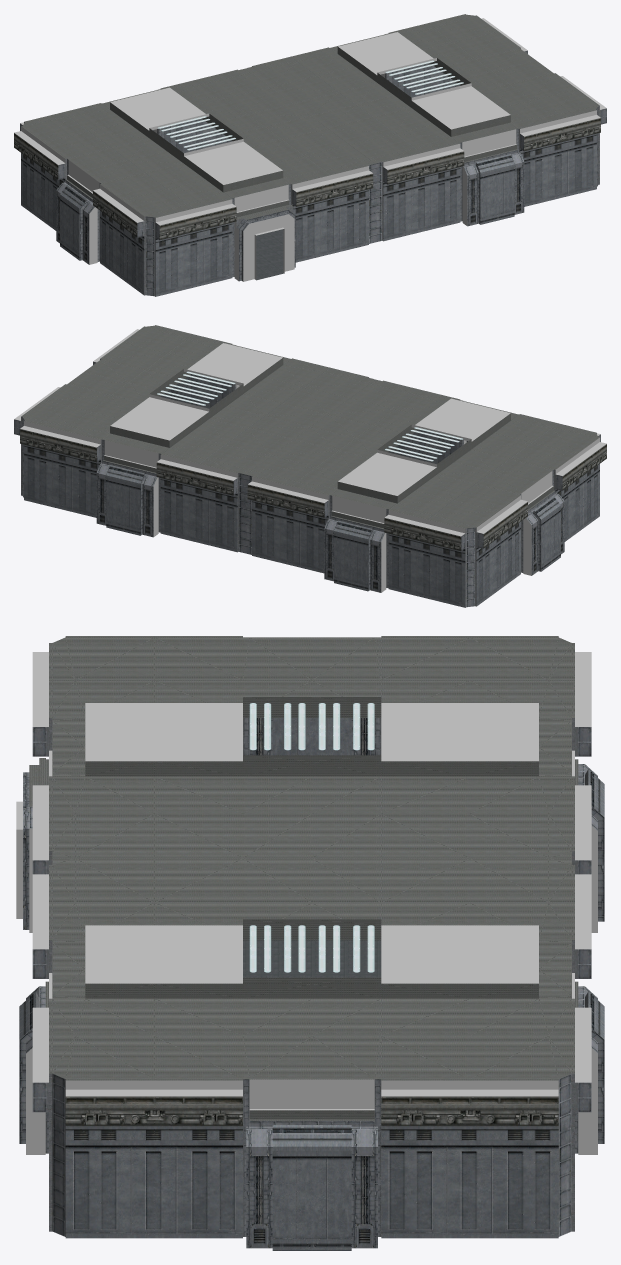
The model's file is poi_all_impl_bunker_research_facility_s01_r8_computerroom_mesh.fbx.
3 renders of one model, top to bottom at view 1: azimuth 30°, elevation 25°; view 2: azimuth 150°, elevation 25°; view 3: azimuth 270°, elevation 25°, orthographic. The views are drawn at different scales.
Visible parts, largest first — view 1: mesh_node; view 2: mesh_node; view 3: mesh_node.
Boxes of the visible parts, left/top/right/bottom form: mesh_node: left=14, top=14, right=606, bottom=296; mesh_node: left=14, top=325, right=606, bottom=607; mesh_node: left=16, top=636, right=604, bottom=1250.
Bounding box in the file's own units: 33.8 × 6 × 17.9.
